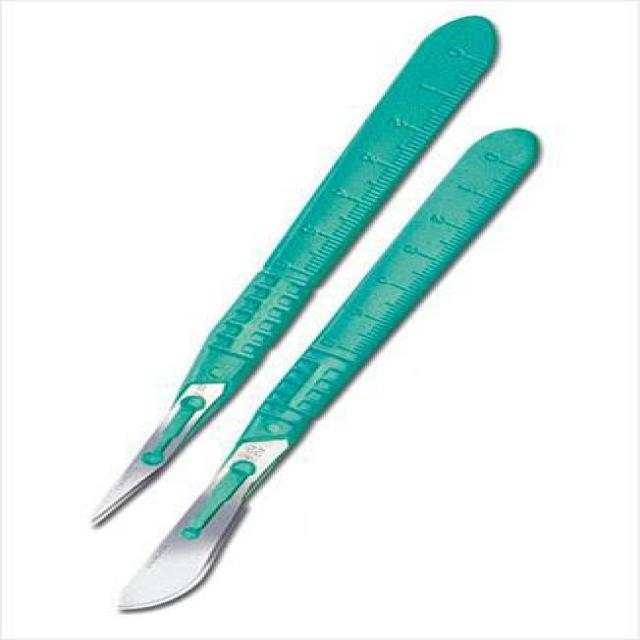B3: (82, 14, 496, 528), (118, 126, 550, 614)
